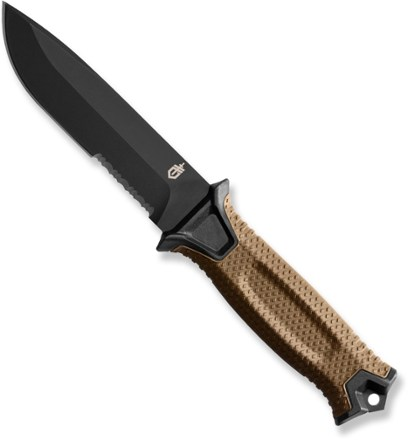knife: (2, 1, 399, 428)
